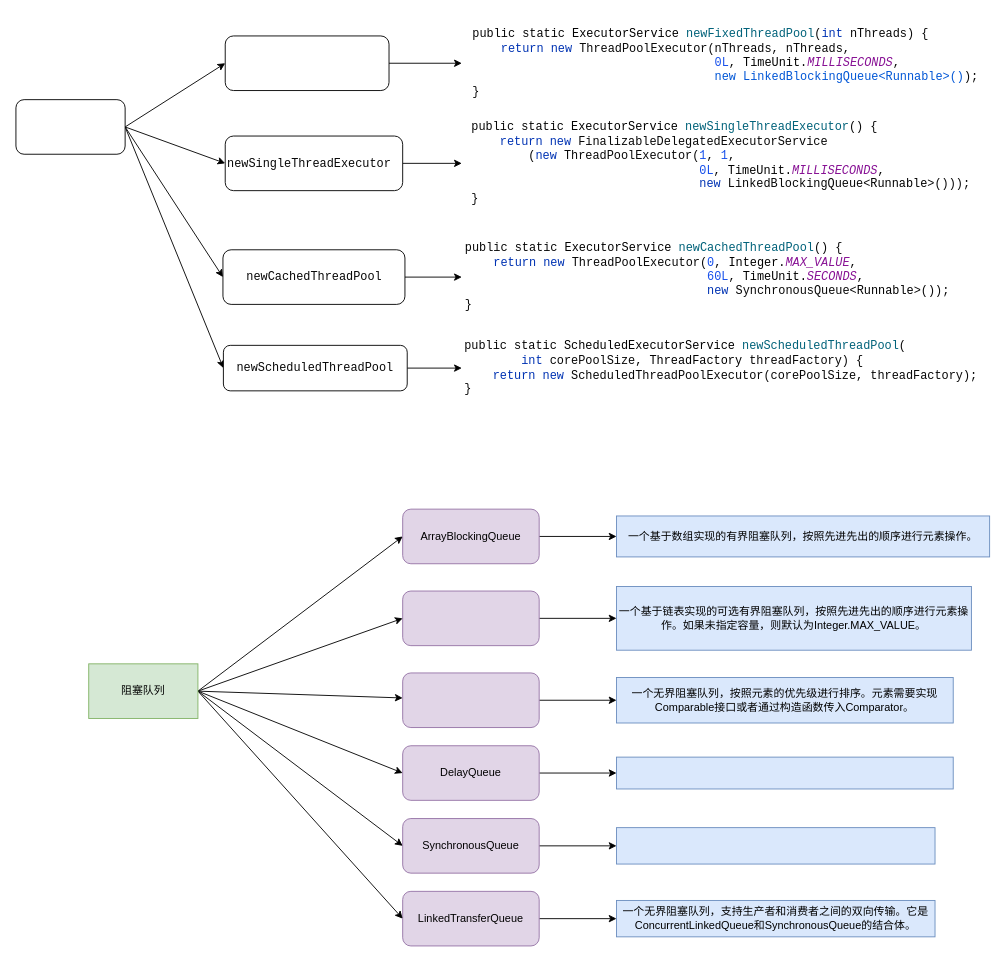
Some shapes in this 1006 by 962 pixel diagram are drawn without their labels. Each missing label, with the box of its shape:
Executors: (15, 99, 125, 154)
LinkedBlockingQueue: (402, 590, 539, 646)
newFixedThreadPool: (224, 35, 389, 91)
PriorityBlockingQueue: (402, 672, 539, 728)
一个无界阻塞队列，其中的元素只有在其指定的延迟时间到达时才能被取出。元素需要实现Delayed接口。: (616, 756, 953, 789)
一个没有容量的阻塞队列，每个插入操作必须等待另一个线程的移除操作，反之亦然。主要用于线程间传递信息。: (616, 827, 935, 864)
